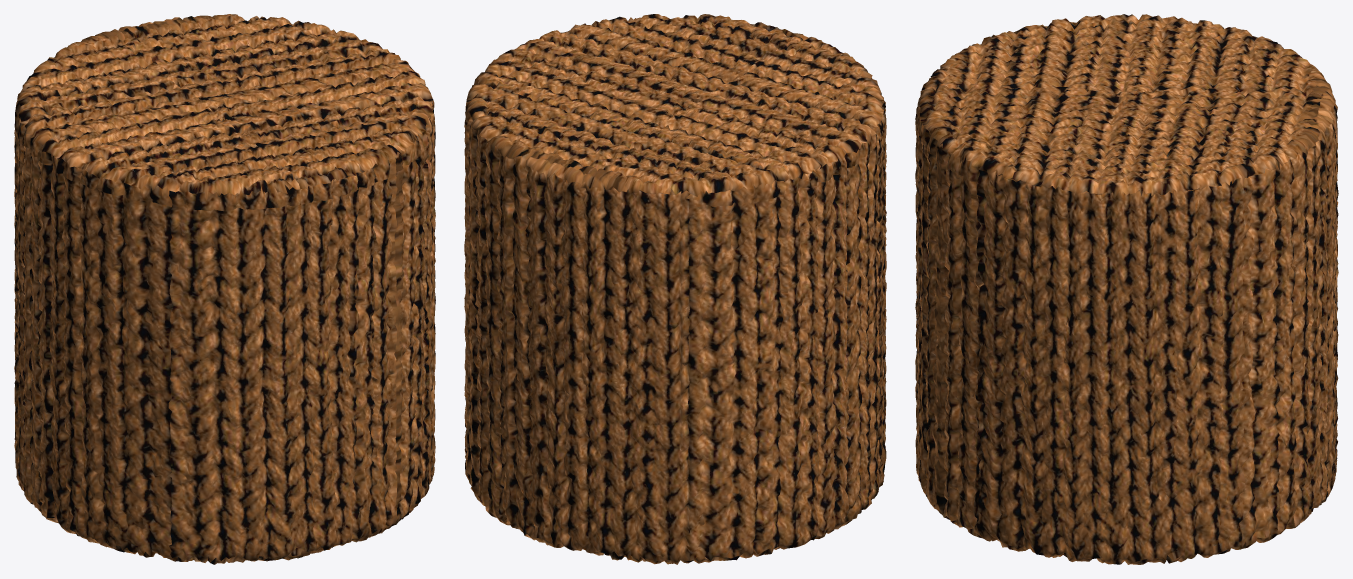
Rendered from solidyarn.fbx.
The picture shows the model from 3 angles, left to right: view 1: azimuth 30°, elevation 25°; view 2: azimuth 150°, elevation 25°; view 3: azimuth 270°, elevation 25°; orthographic projection.
Parts seen in each view (by area): view 1: Cylinder; view 2: Cylinder; view 3: Cylinder.
Boxes of the visible parts, bbox=[...] form: Cylinder: bbox=[14, 14, 435, 564]; Cylinder: bbox=[464, 14, 886, 564]; Cylinder: bbox=[915, 14, 1338, 564].
Size of the model in its own units: 105 by 105 by 105.
